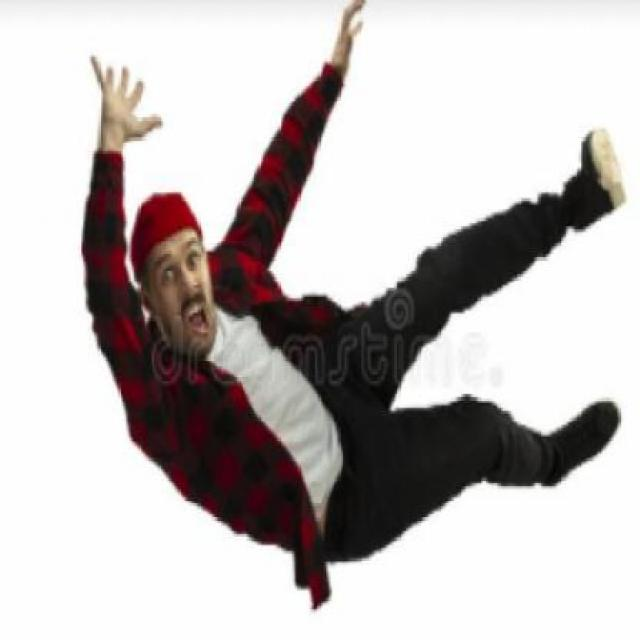fall: (77, 0, 624, 578)
